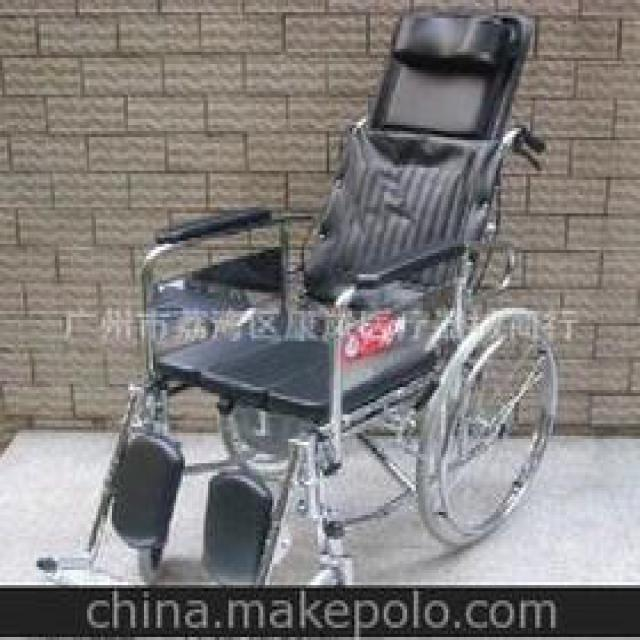wheelchair: (25, 3, 562, 582)
